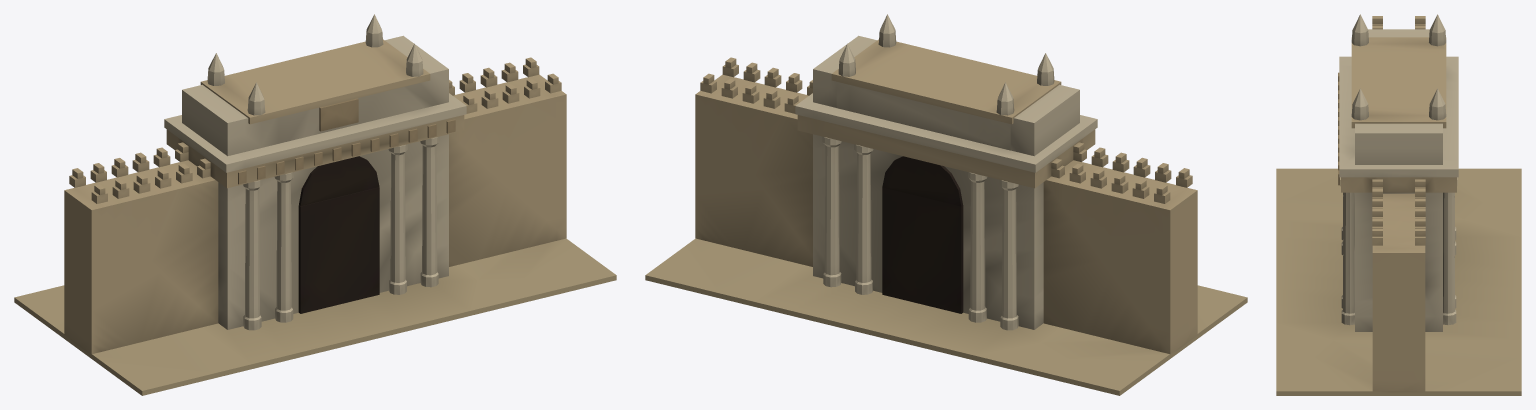
File: puerta-del-puente-1600.glb
The picture shows the model from 3 angles, left to right: view 1: azimuth 30°, elevation 25°; view 2: azimuth 150°, elevation 25°; view 3: azimuth 270°, elevation 25°; orthographic projection. The views are drawn at different scales.
Visible parts, largest first — view 1: p0_ground, p1_arch; view 2: p0_ground, p1_arch; view 3: p0_ground, p1_arch.
Part boxes in pixels (box(x1,y1,x2,y2)): p0_ground: box(14, 57, 616, 395); p1_arch: box(164, 14, 466, 330); p0_ground: box(645, 57, 1247, 395); p1_arch: box(795, 14, 1097, 330); p0_ground: box(1276, 16, 1521, 395); p1_arch: box(1338, 14, 1458, 331).
Bounding box in the file's own units: 30.02 × 14.7 × 14.
